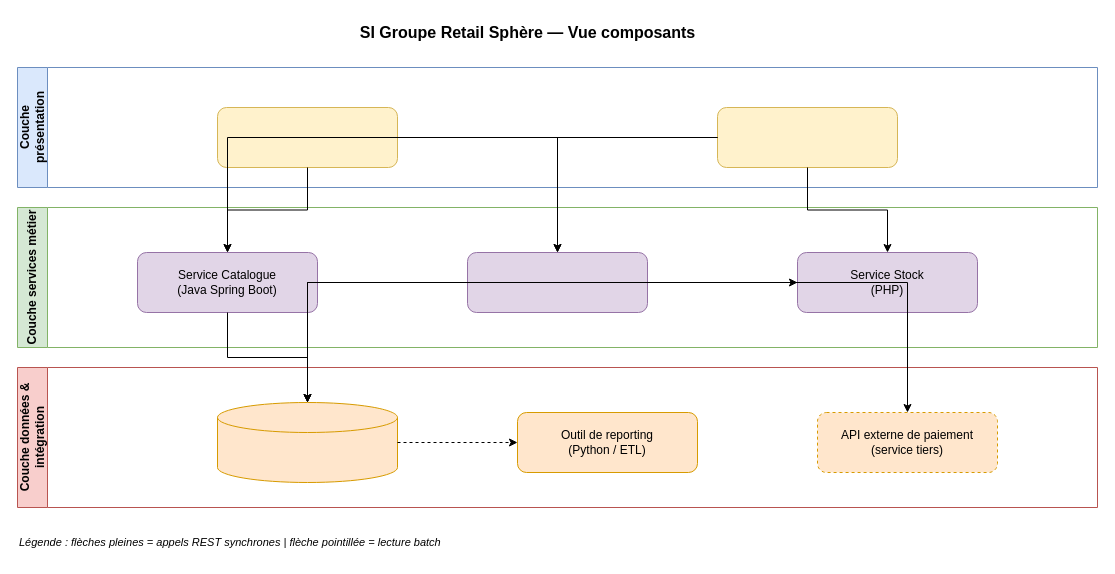
Image size: 1115x574. Some labels were removed from this diagram. Each missing label, with the centre of its shape:
"Back-office interne (Angular)" goes at pixel 807 137.
"Base de données principale (PostgreSQL)" goes at pixel 307 442.
"Front-end e-commerce (React)" goes at pixel 307 137.
"Service Commandes (Node.js)" goes at pixel 557 282.
